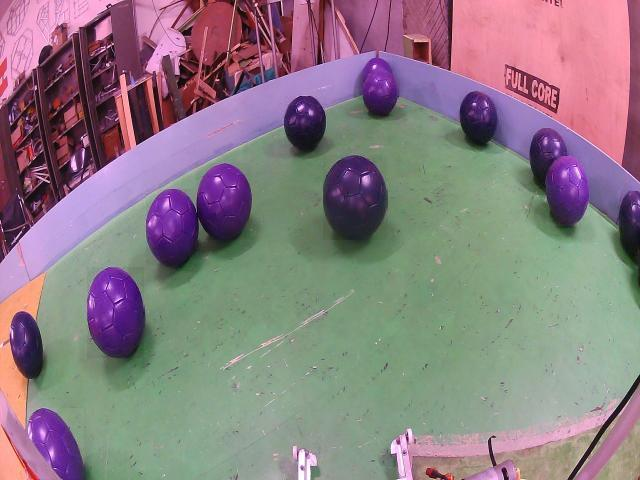jambhalya: (87, 267, 144, 358), (196, 164, 251, 240), (27, 408, 84, 480), (146, 190, 199, 266), (546, 155, 589, 226), (364, 68, 398, 115), (363, 57, 392, 82)
kaalyya: (323, 155, 387, 240), (284, 97, 326, 149), (530, 128, 568, 185), (10, 312, 42, 378), (460, 92, 498, 144), (619, 192, 639, 254)
